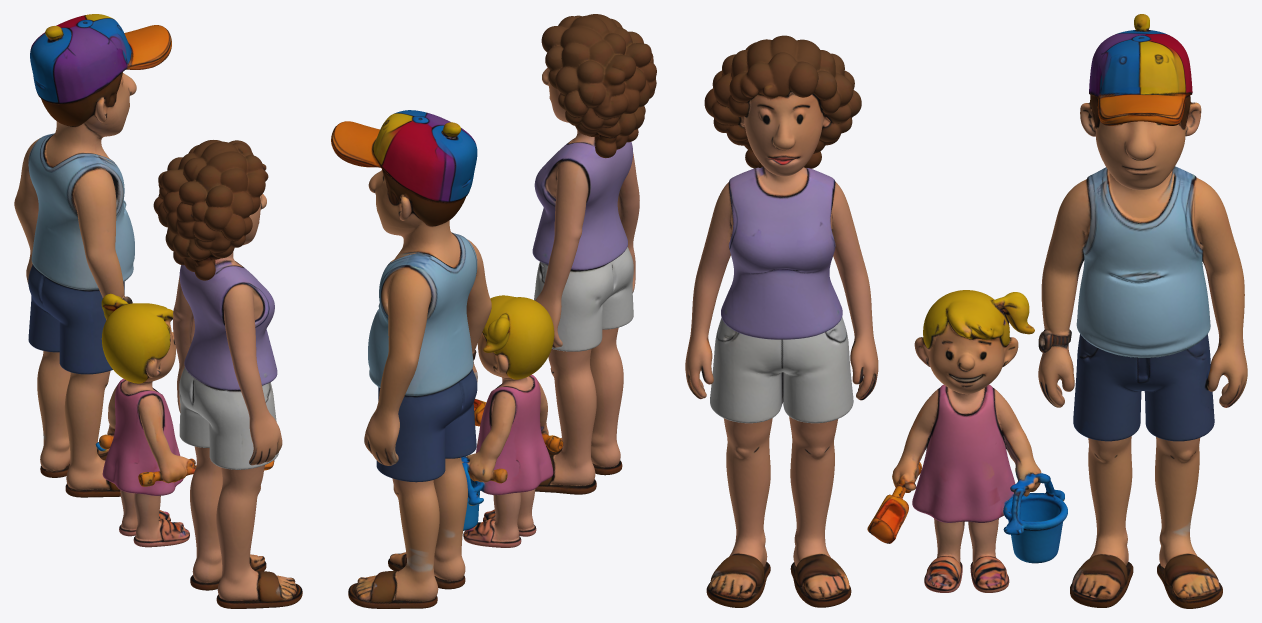
Rendered from personas_casilla_62.glb.
The picture shows the model from 3 angles, left to right: view 1: azimuth 30°, elevation 25°; view 2: azimuth 150°, elevation 25°; view 3: azimuth 270°, elevation 25°; orthographic projection. The views are drawn at different scales.
Parts seen in each view (by area): view 1: tripo_node_ffc5a5fd-5088-4c54-aeb9-d1630394aad3; view 2: tripo_node_ffc5a5fd-5088-4c54-aeb9-d1630394aad3; view 3: tripo_node_ffc5a5fd-5088-4c54-aeb9-d1630394aad3.
Boxes of the visible parts, bbox=[...] form: tripo_node_ffc5a5fd-5088-4c54-aeb9-d1630394aad3: bbox=[14, 14, 302, 608]; tripo_node_ffc5a5fd-5088-4c54-aeb9-d1630394aad3: bbox=[331, 14, 656, 608]; tripo_node_ffc5a5fd-5088-4c54-aeb9-d1630394aad3: bbox=[685, 14, 1247, 608].
Size of the model in its own units: 0.3424 by 1 by 0.9282.
Materials: 1 (1 with a texture image).
